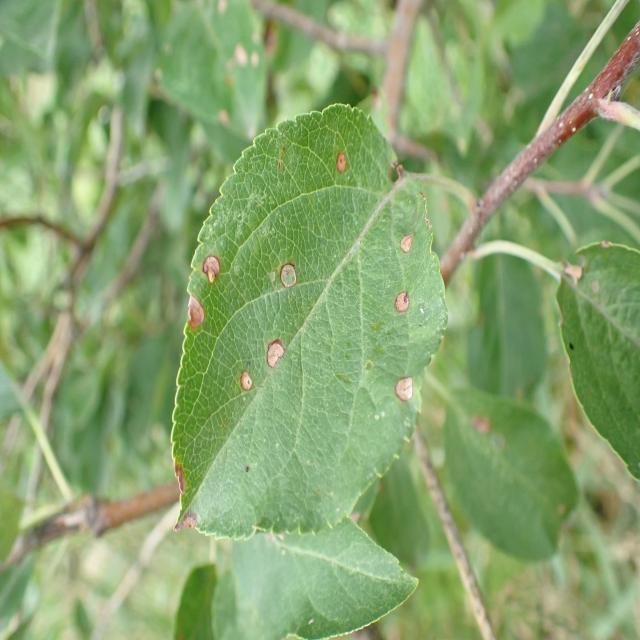frog-eye-leaf-spot: (170, 100, 449, 543)
